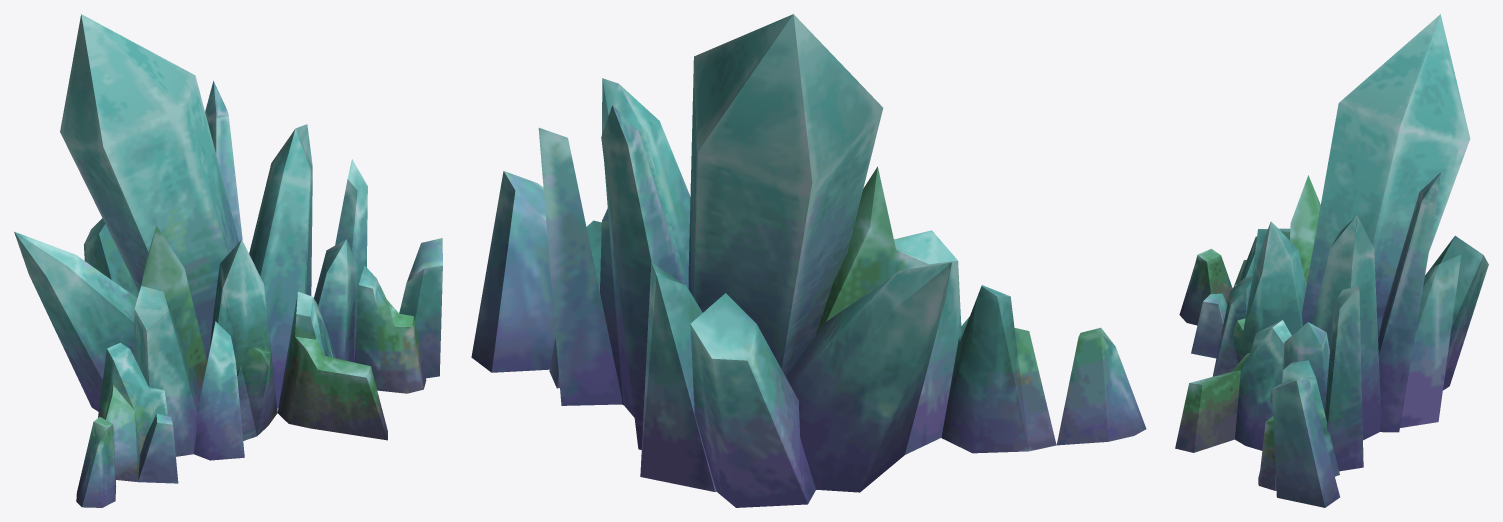
The model's file is dx_shuijing_2.FBX.
3 renders of one model, left to right at view 1: azimuth 30°, elevation 25°; view 2: azimuth 150°, elevation 25°; view 3: azimuth 270°, elevation 25°, orthographic. The views are drawn at different scales.
Parts seen in each view (by area): view 1: dx_shuijing_2; view 2: dx_shuijing_2; view 3: dx_shuijing_2.
Boxes of the visible parts, x1=… form: dx_shuijing_2: x1=14, y1=14, x2=442, y2=507; dx_shuijing_2: x1=471, y1=14, x2=1146, y2=507; dx_shuijing_2: x1=1175, y1=14, x2=1488, y2=507.
Bounding box in the file's own units: 128 × 106 × 84.84.
